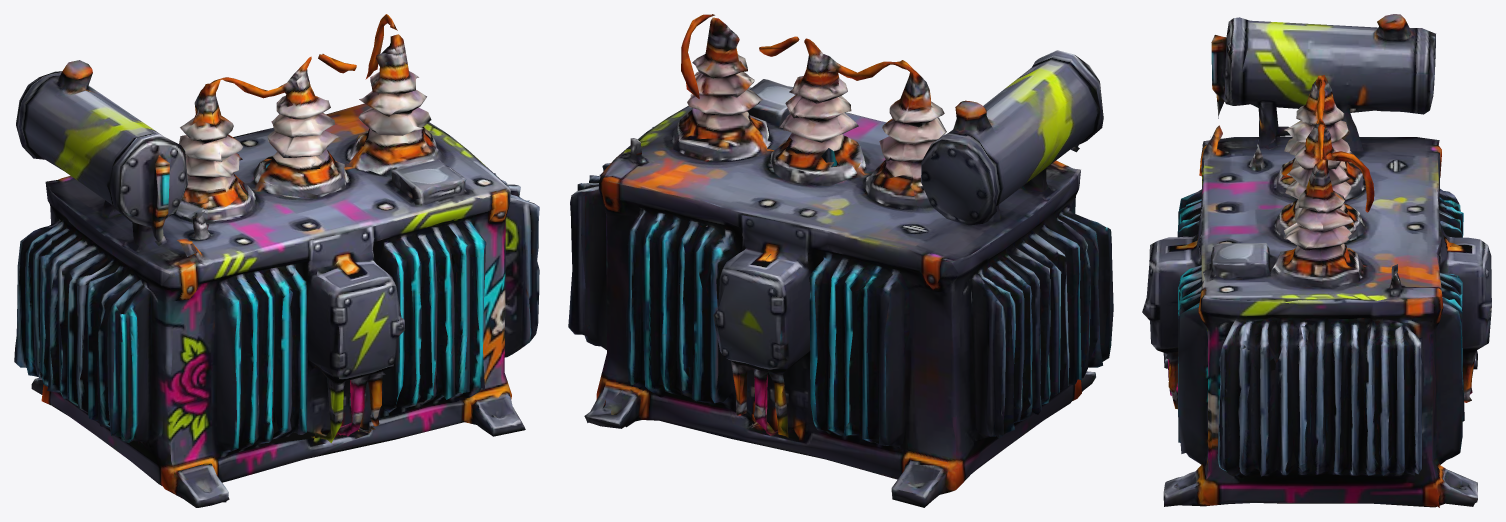
File: GW_D03_transformer_bank.glb
The picture shows the model from 3 angles, left to right: view 1: azimuth 30°, elevation 25°; view 2: azimuth 150°, elevation 25°; view 3: azimuth 270°, elevation 25°; orthographic projection. The views are drawn at different scales.
Visible parts, largest first — view 1: tripo_node_6680a761-e5d3-41d1-a584-1812fcdbd0c7; view 2: tripo_node_6680a761-e5d3-41d1-a584-1812fcdbd0c7; view 3: tripo_node_6680a761-e5d3-41d1-a584-1812fcdbd0c7.
Part boxes in pixels (<box>): tripo_node_6680a761-e5d3-41d1-a584-1812fcdbd0c7: <box>14,14,539,507</box>; tripo_node_6680a761-e5d3-41d1-a584-1812fcdbd0c7: <box>568,14,1113,507</box>; tripo_node_6680a761-e5d3-41d1-a584-1812fcdbd0c7: <box>1142,14,1491,507</box>.
Bounding box in the file's own units: 0.9972 × 0.8069 × 0.7532.
Materials: 1 (1 with a texture image).
